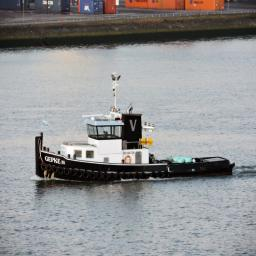tugboat: (34, 106, 238, 191)
